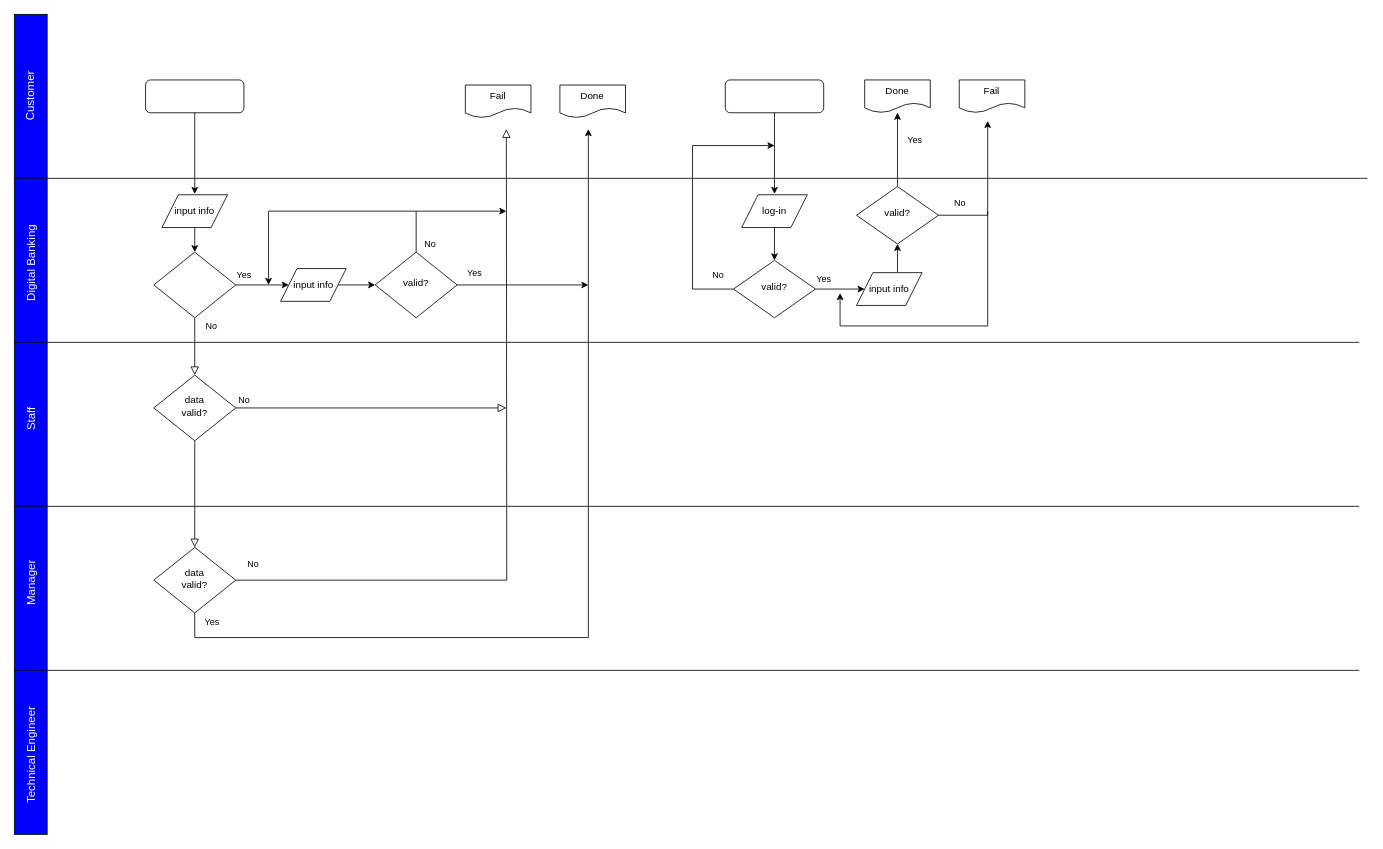
The diagram is 1383 pixels wide and 849 high, and some of its shapes have lost their labels. The shapes that lost their labels are listed below. From the top down, each one's centre as x and y in pixels, then its label:
point (194, 96): open account
point (774, 96): transfer money
point (194, 284): account exist?
